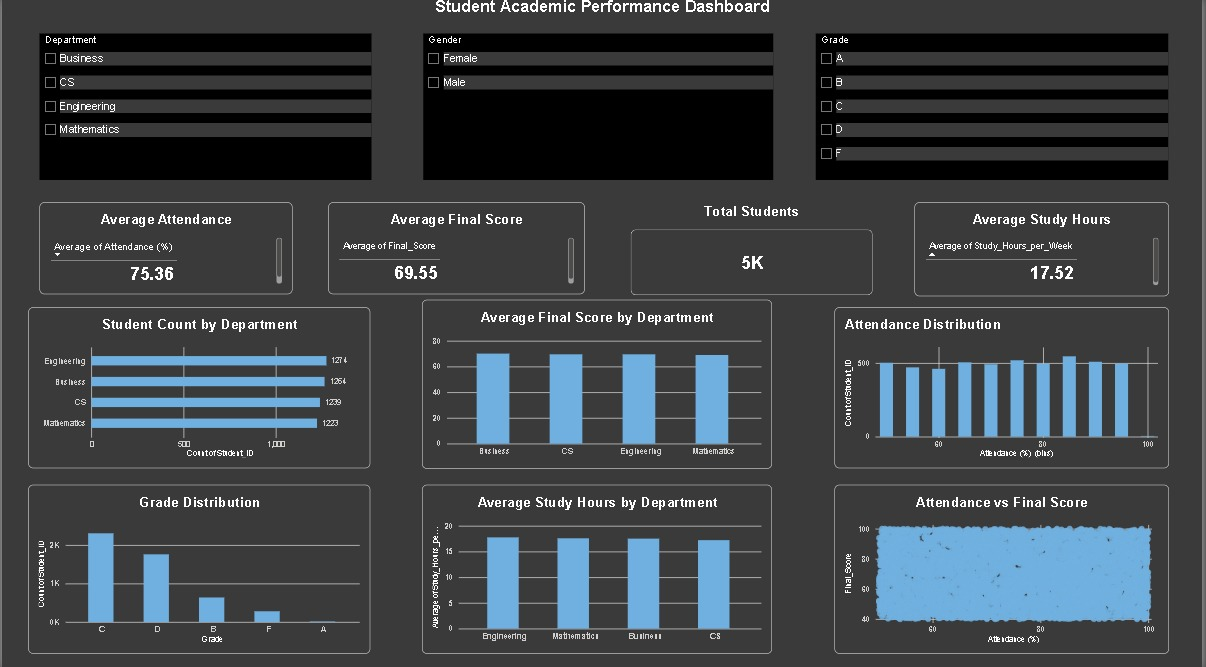

The page's visual inventory and layout, read from the dashboard file:
{"tool":"powerbi","page":{"name":"Page 1","canvas":[1920,1080],"ordinal":0},"visuals":[{"type":"cardVisual","title":"Total Students","fields":{"Data":["Count(Students Performance Dataset.Student_ID)"]},"box":[1005,332.5,387.5,147.5],"z":0},{"type":"tableEx","title":"Average Final Score","fields":{"Values":["Avg(Students Performance Dataset.Final_Score)"]},"box":[522.5,330,410,147.5],"z":1000},{"type":"tableEx","title":"Average Attendance","fields":{"Values":["Avg(Students Performance Dataset.Attendance (%))"]},"box":[60,330,405,147.5],"z":2000},{"type":"tableEx","title":"Average Study Hours","fields":{"Values":["Avg(Students Performance Dataset.Study_Hours_per_Week)"]},"box":[1460,330,407.5,150],"z":3000},{"type":"clusteredBarChart","title":"Student Count by Department","fields":{"Category":["Students Performance Dataset.Department"],"Y":["CountNonNull(Students Performance Dataset.Student_ID)"]},"box":[42.5,497.5,547.5,257.5],"z":4000},{"type":"clusteredColumnChart","title":"Average Final Score by Department","fields":{"Category":["Students Performance Dataset.Department"],"Y":["Avg(Students Performance Dataset.Final_Score)"]},"box":[672.5,485,560,270],"z":5000},{"type":"clusteredColumnChart","title":"Grade Distribution","fields":{"Category":["Students Performance Dataset.Grade"],"Y":["CountNonNull(Students Performance Dataset.Student_ID)"]},"box":[42.5,782.5,547.5,270],"z":6000},{"type":"clusteredColumnChart","title":"Attendance Distribution","fields":{"Category":["Students Performance Dataset.Attendance (%) (bins)"],"Y":["CountNonNull(Students Performance Dataset.Student_ID)"]},"box":[1332.5,497.5,535,257.5],"z":7000},{"type":"clusteredColumnChart","title":"Average Study Hours by Department","fields":{"Category":["Students Performance Dataset.Department"],"Y":["Avg(Students Performance Dataset.Study_Hours_per_Week)"]},"box":[672.5,782.5,560,270],"z":8000},{"type":"scatterChart","title":"Attendance vs Final Score","fields":{"X":["Students Performance Dataset.Attendance (%)"],"Y":["Students Performance Dataset.Final_Score"]},"box":[1332.5,782.5,535,270],"z":9000},{"type":"textbox","box":[0,0,1920,1080],"z":10000},{"type":"slicer","fields":{"Values":["Students Performance Dataset.Department"]},"box":[59.7,59.7,531,234.6],"z":11000},{"type":"slicer","fields":{"Values":["Students Performance Dataset.Gender"]},"box":[673.1,59.7,559.9,234.6],"z":12000},{"type":"slicer","fields":{"Values":["Students Performance Dataset.Grade"]},"box":[1302.9,59.7,564,234.6],"z":13000}]}

Visuals, with their boxes in screenshot pixels (x1, y1, x2, y2), scaled from the page's 1920x1080 canvas onto the 1206x667 screenshot:
"Total Students" cardVisual: crop(631, 205, 875, 296)
"Average Final Score" tableEx: crop(328, 204, 586, 295)
"Average Attendance" tableEx: crop(38, 204, 292, 295)
"Average Study Hours" tableEx: crop(917, 204, 1173, 296)
"Student Count by Department" clusteredBarChart: crop(27, 307, 371, 466)
"Average Final Score by Department" clusteredColumnChart: crop(422, 300, 774, 466)
"Grade Distribution" clusteredColumnChart: crop(27, 483, 371, 650)
"Attendance Distribution" clusteredColumnChart: crop(837, 307, 1173, 466)
"Average Study Hours by Department" clusteredColumnChart: crop(422, 483, 774, 650)
"Attendance vs Final Score" scatterChart: crop(837, 483, 1173, 650)
textbox: crop(0, 0, 1205, 666)
slicer - Students Performance Dataset.Department: crop(37, 37, 371, 182)
slicer - Students Performance Dataset.Gender: crop(423, 37, 774, 182)
slicer - Students Performance Dataset.Grade: crop(818, 37, 1173, 182)
